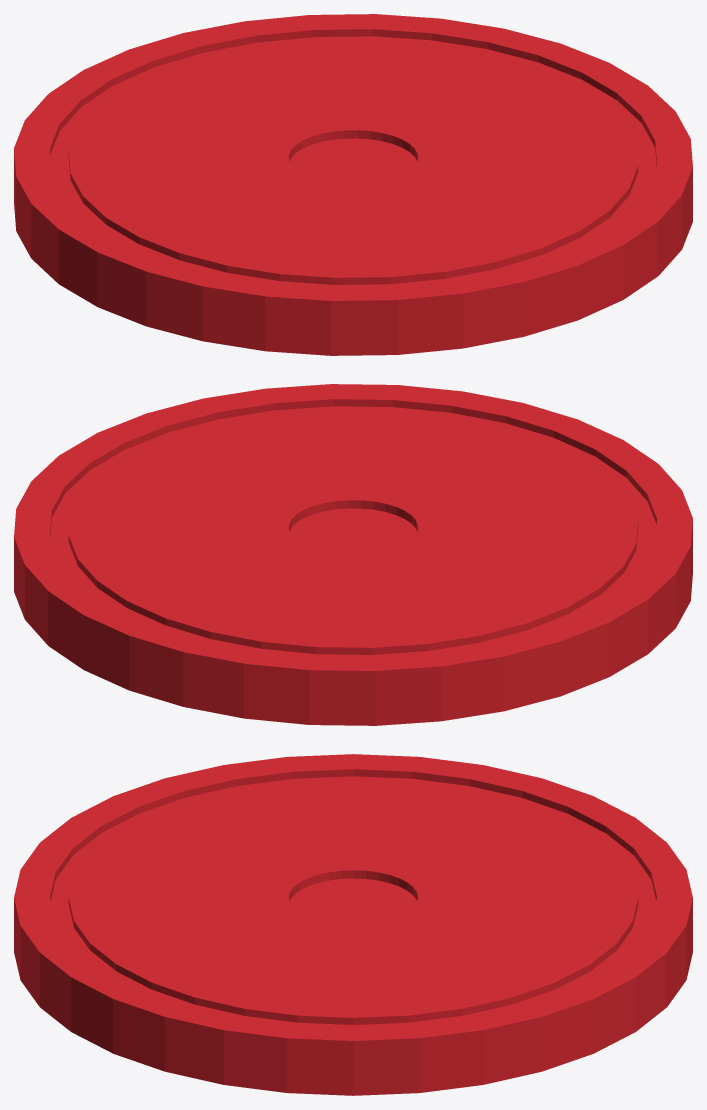
Rendered from piece-w.glb.
The picture shows the model from 3 angles, top to bottom: view 1: azimuth 30°, elevation 25°; view 2: azimuth 150°, elevation 25°; view 3: azimuth 270°, elevation 25°; orthographic projection.
Visible parts, largest first — view 1: Cylinder; view 2: Cylinder; view 3: Cylinder.
Boxes of the visible parts, x1=… form: Cylinder: x1=14, y1=14, x2=692, y2=355; Cylinder: x1=14, y1=384, x2=692, y2=725; Cylinder: x1=14, y1=754, x2=692, y2=1095.
Size of the model in its own units: 1.13 by 0.1003 by 1.13.
